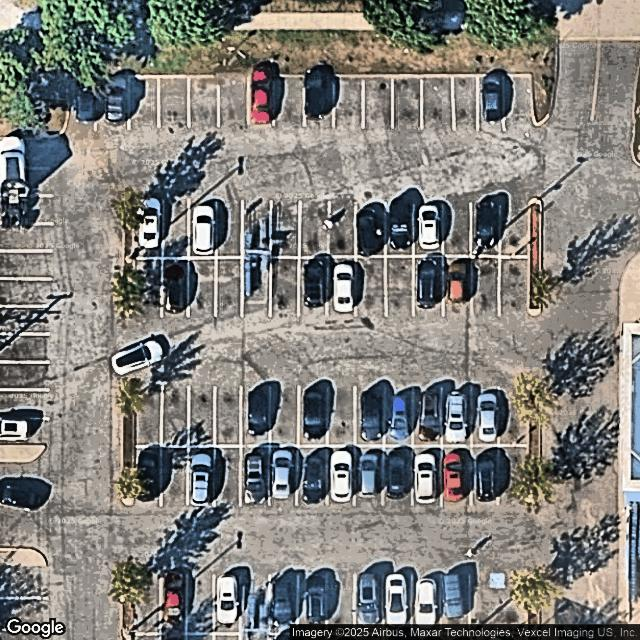car: (250, 64, 275, 124), (162, 571, 186, 632), (442, 451, 469, 501), (244, 450, 269, 502), (303, 391, 327, 441), (484, 72, 508, 121), (386, 448, 410, 497), (357, 449, 381, 497), (137, 448, 159, 499), (247, 391, 271, 436), (442, 577, 466, 622), (359, 392, 381, 441), (305, 452, 326, 503), (74, 74, 96, 122), (478, 394, 500, 442), (306, 260, 328, 308), (390, 394, 413, 439), (165, 265, 187, 312), (333, 264, 355, 311), (420, 392, 441, 441), (391, 200, 412, 248), (476, 199, 496, 249), (416, 453, 436, 503), (418, 261, 439, 308), (306, 574, 327, 621), (387, 576, 408, 623), (106, 75, 126, 124), (194, 206, 214, 255), (273, 447, 293, 496), (275, 574, 294, 625), (447, 260, 469, 304), (306, 71, 327, 117), (418, 203, 439, 249), (448, 393, 467, 443), (139, 200, 159, 247), (361, 574, 379, 626), (359, 214, 381, 255), (219, 575, 237, 625), (416, 580, 436, 624), (476, 456, 496, 499), (334, 452, 350, 500), (194, 451, 208, 504), (0, 418, 29, 440)
lot_boundary: (0, 71, 531, 640)
objects: (244, 200, 272, 316), (241, 573, 272, 634), (120, 383, 133, 505), (122, 196, 133, 315), (120, 566, 132, 640), (0, 549, 45, 568)
stall: (471, 570, 526, 625), (297, 572, 328, 632), (440, 569, 471, 629), (443, 383, 472, 446), (97, 76, 130, 131), (356, 256, 386, 316), (501, 382, 530, 444), (422, 74, 454, 130), (355, 386, 385, 445), (356, 571, 385, 632), (134, 444, 162, 507), (501, 444, 529, 507), (157, 77, 190, 129), (503, 72, 532, 131), (189, 386, 217, 447), (386, 385, 414, 446), (162, 385, 189, 448), (415, 258, 444, 316), (444, 257, 473, 315), (242, 388, 271, 446), (443, 448, 472, 506), (162, 200, 190, 260), (300, 386, 328, 446), (415, 385, 443, 445), (271, 575, 299, 635), (134, 385, 161, 447), (188, 76, 220, 128), (300, 199, 328, 258), (213, 575, 241, 634), (328, 387, 356, 446), (242, 446, 270, 505), (384, 202, 414, 257), (442, 201, 472, 256), (0, 168, 53, 199), (134, 570, 160, 633), (500, 199, 528, 257), (414, 446, 442, 504), (386, 256, 413, 316), (357, 444, 384, 504), (385, 571, 412, 631), (329, 200, 357, 257), (473, 256, 501, 313), (299, 447, 327, 504), (356, 202, 385, 257), (471, 201, 500, 256), (135, 200, 162, 259), (162, 447, 189, 506), (335, 74, 365, 127), (472, 445, 498, 506), (189, 573, 215, 634), (500, 256, 528, 312), (392, 75, 421, 129), (477, 73, 504, 131), (0, 223, 52, 253), (386, 444, 412, 504), (329, 571, 355, 631), (0, 597, 50, 628), (475, 383, 500, 445), (130, 76, 158, 131), (271, 202, 299, 257), (189, 259, 216, 316), (414, 203, 443, 256), (134, 257, 160, 316), (272, 387, 298, 446), (415, 569, 441, 628), (0, 250, 51, 280), (330, 257, 355, 318), (270, 448, 297, 504), (1, 140, 55, 168), (0, 194, 52, 223), (217, 257, 243, 315), (301, 258, 327, 316), (329, 447, 355, 505), (161, 574, 186, 634), (190, 447, 214, 509), (216, 387, 241, 446), (0, 305, 49, 335), (276, 74, 304, 126), (365, 75, 393, 127), (190, 203, 216, 259), (0, 334, 52, 362), (220, 77, 249, 127), (273, 256, 297, 316), (217, 202, 243, 257), (0, 278, 49, 307), (163, 261, 188, 317), (1, 360, 48, 389), (307, 74, 333, 126), (0, 390, 46, 419), (453, 76, 478, 128), (218, 446, 240, 504), (73, 75, 95, 132), (250, 75, 274, 127), (1, 571, 48, 597), (0, 417, 48, 440)
